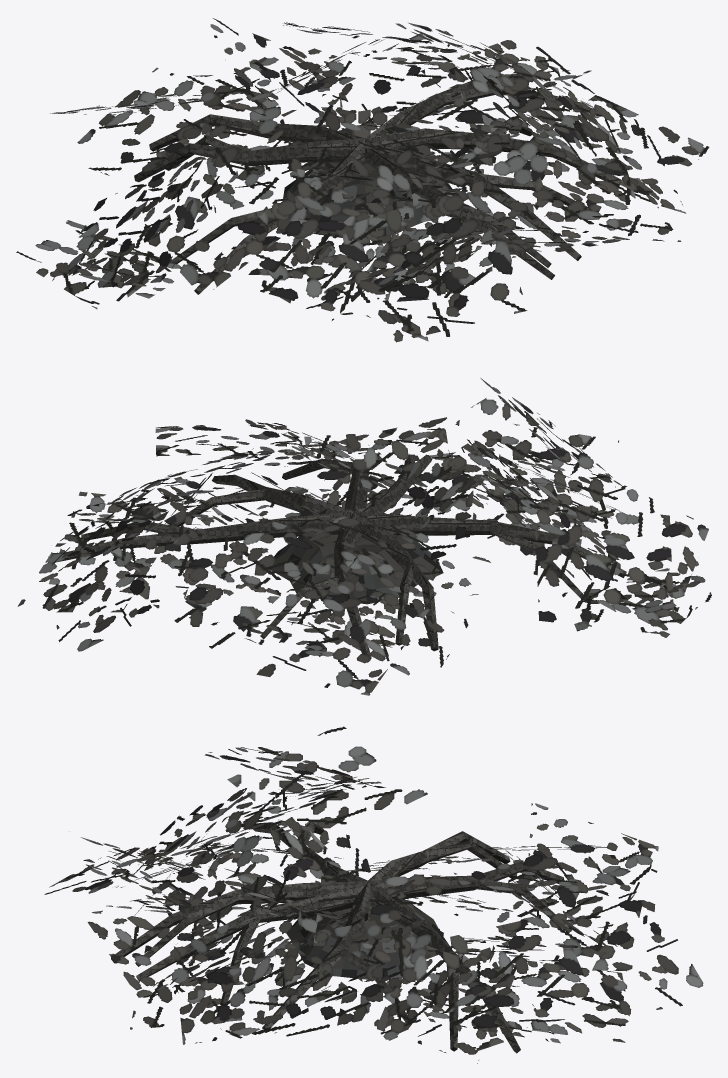
File: CrePlant02a.glb
3 renders of one model, top to bottom at view 1: azimuth 30°, elevation 25°; view 2: azimuth 150°, elevation 25°; view 3: azimuth 270°, elevation 25°, orthographic. The views are drawn at different scales.
Visible parts, largest first — view 1: p_core; view 2: p_core; view 3: p_core.
Boxes of the visible parts, left/top/right/bottom form: p_core: left=16, top=18, right=709, bottom=342; p_core: left=17, top=378, right=711, bottom=695; p_core: left=44, top=726, right=703, bottom=1063.
Bounding box in the file's own units: 2.83 × 0.48 × 2.76.
Materials: 3 (3 with a texture image).
